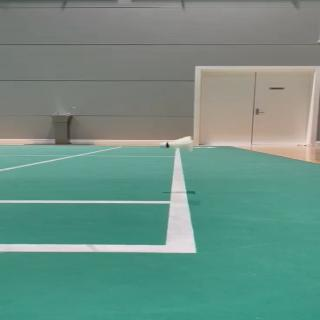Shuttle: (160, 136, 192, 152)
